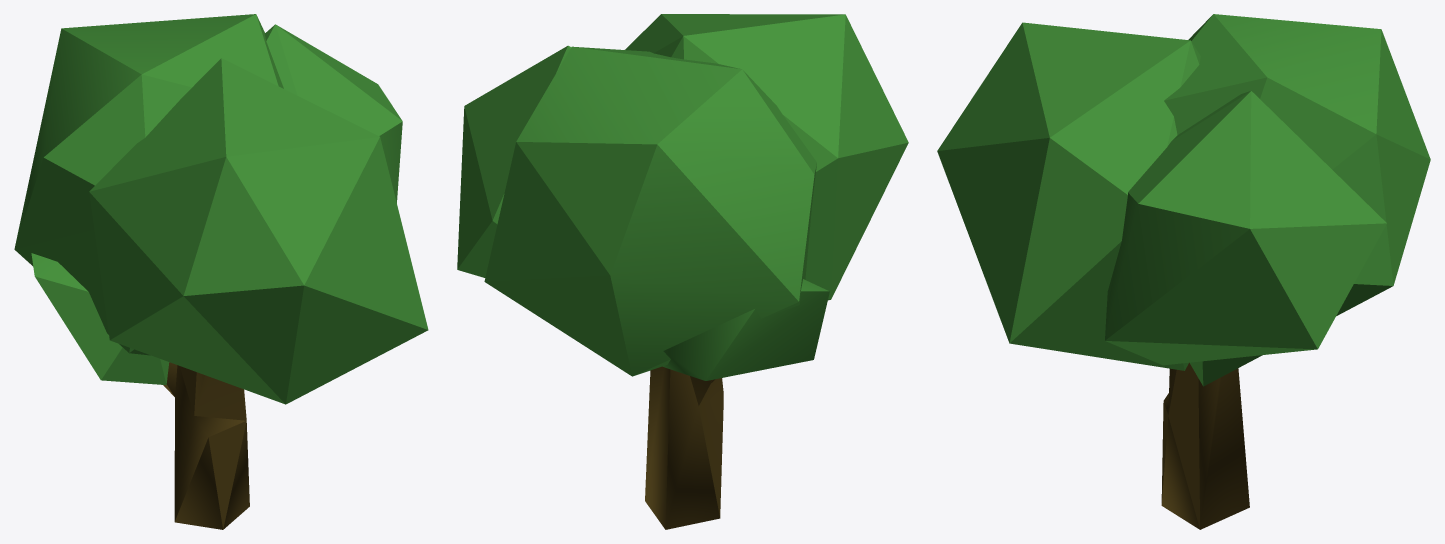
The model's file is tree_oneObj_decimated.fbx.
3 views of the same model, side by side, from view 1: azimuth 30°, elevation 25°; view 2: azimuth 150°, elevation 25°; view 3: azimuth 270°, elevation 25° (orthographic). The views are drawn at different scales.
Visible parts, largest first — view 1: Cylinder; view 2: Cylinder; view 3: Cylinder.
Boxes of the visible parts, box(x1,y1,x2,y2) form: Cylinder: box(14, 14, 428, 529); Cylinder: box(457, 14, 908, 529); Cylinder: box(937, 14, 1430, 529).
Size of the model in its own units: 1711 by 2144 by 2028.
